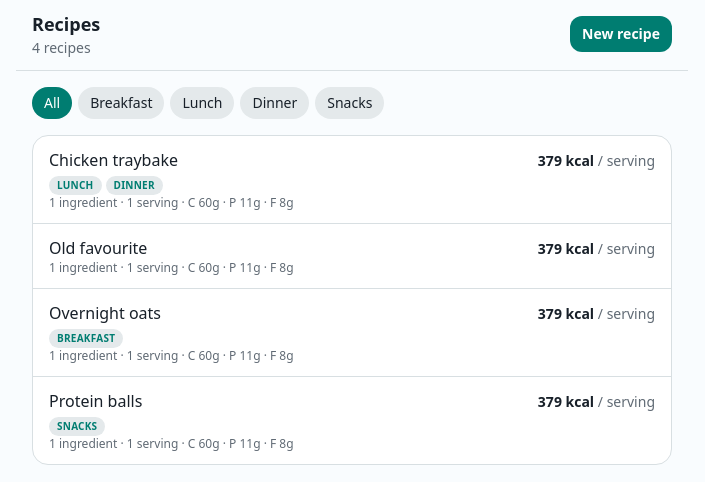
Scenario: RecipesPage — meal filter › filters to one meal
Click the button "Breakfast" at (121, 103), box left=78, top=87, right=164, bottom=119
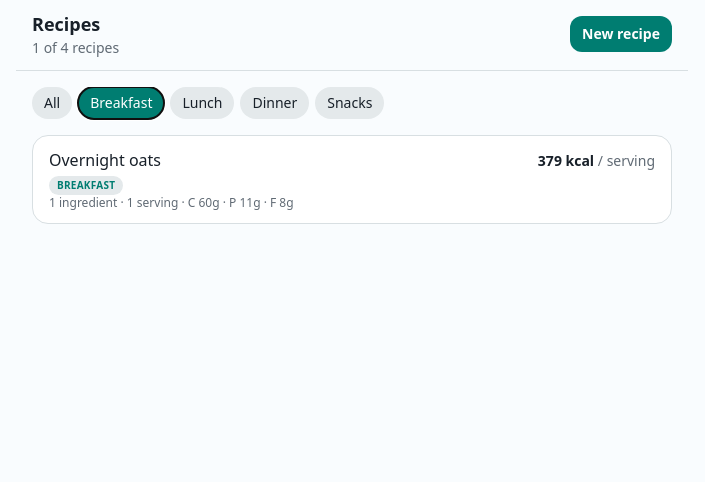
Expected: the link that starts with "Overnight oats" is shown, left=33, top=136, right=671, bottom=223
Result: the link "Chicken traybake" no longer shows "Chicken traybake"
